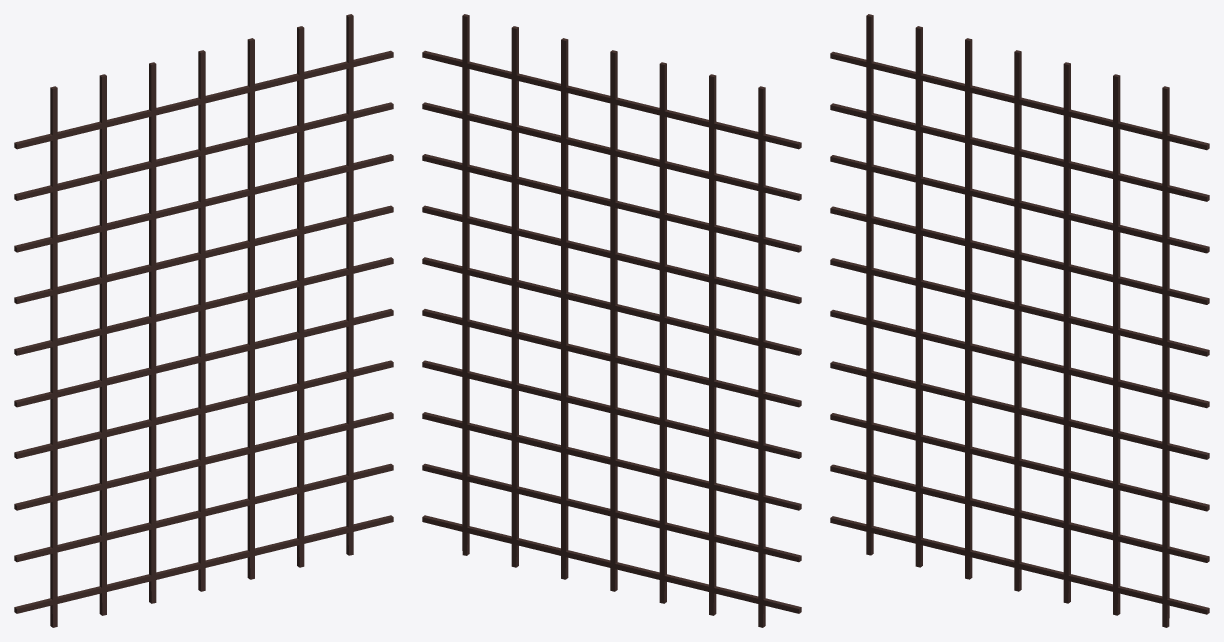
The model's file is arch_bars.glb.
3 views of the same model, side by side, from view 1: azimuth 30°, elevation 25°; view 2: azimuth 150°, elevation 25°; view 3: azimuth 330°, elevation 25° (orthographic).
Parts seen in each view (by area): view 1: Arch_bars; view 2: Arch_bars; view 3: Arch_bars.
Boxes of the visible parts, <box> form: Arch_bars: <box>14,14,393,627</box>; Arch_bars: <box>422,14,801,627</box>; Arch_bars: <box>830,14,1209,627</box>.
Size of the model in its own units: 2.48 by 3.39 by 0.0303.
